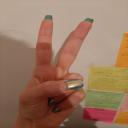PeaceSign: (18, 14, 96, 126)
